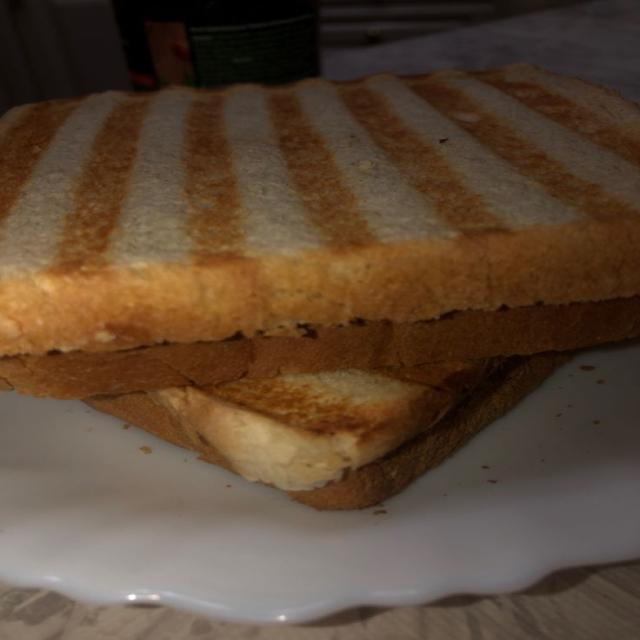toast bread: (0, 65, 639, 372), (84, 352, 570, 510), (0, 297, 639, 398)
